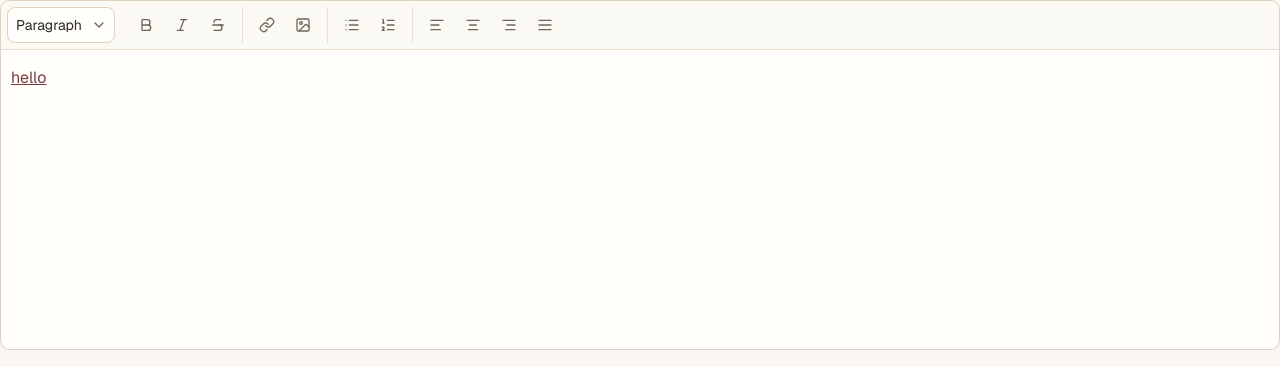
Test: Tiptap toolbar › prefills the panel with the current link's href
Click the button named "Add or edit a link".
click(267, 25)  # box [249,7,285,43]
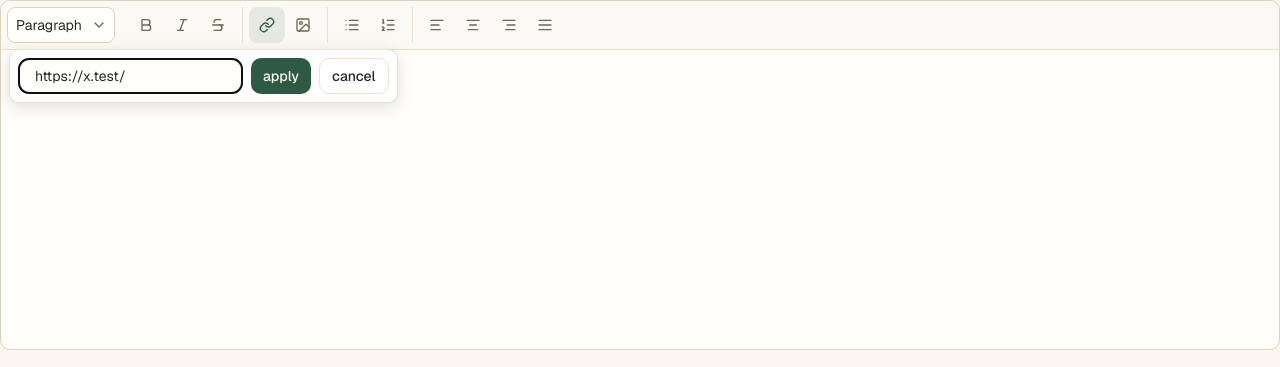
expect the field named "link url" holds "https://x.test/": met, box [18,58,243,94]
